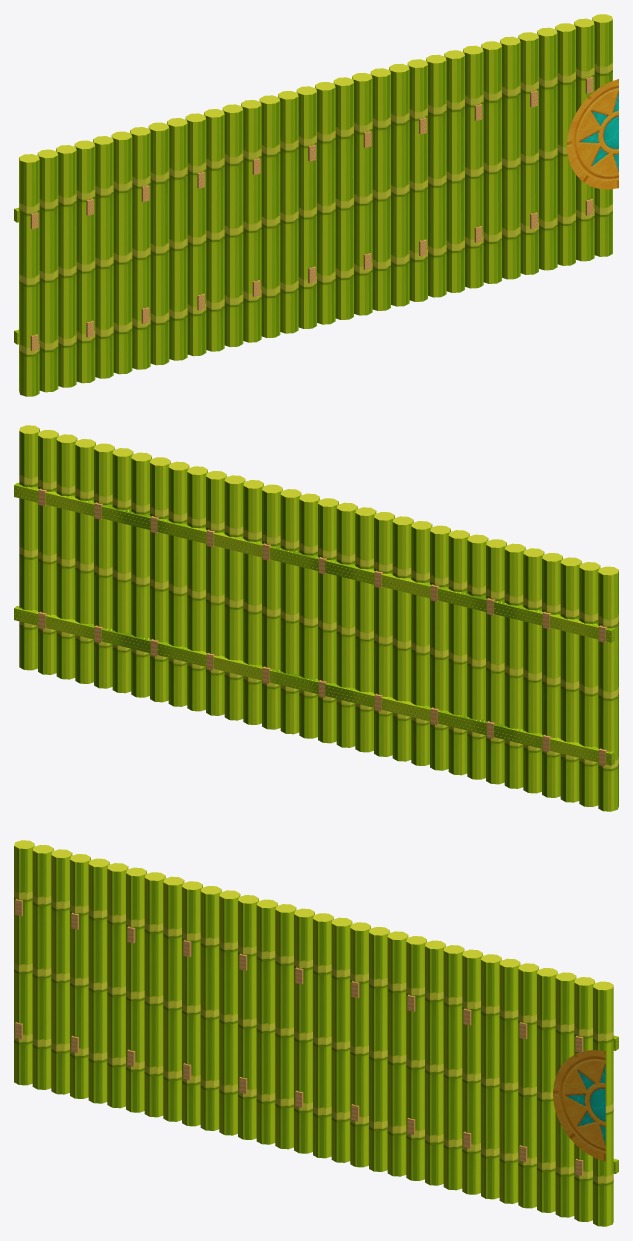
The model's file is gate-30-north-gate-left-DV9479NV.glb.
The picture shows the model from 3 angles, top to bottom: view 1: azimuth 30°, elevation 25°; view 2: azimuth 150°, elevation 25°; view 3: azimuth 330°, elevation 25°; orthographic projection.
Visible parts, largest first — view 1: HI_Gate_30_north-gate_left; view 2: HI_Gate_30_north-gate_left; view 3: HI_Gate_30_north-gate_left.
Boxes of the visible parts, box(x1,y1,x2,y2) form: HI_Gate_30_north-gate_left: box(14, 14, 618, 396); HI_Gate_30_north-gate_left: box(14, 425, 618, 811); HI_Gate_30_north-gate_left: box(14, 840, 618, 1226).
Size of the model in its own units: 6.35 by 2.4 by 0.25.
2 materials, 2 textured.
